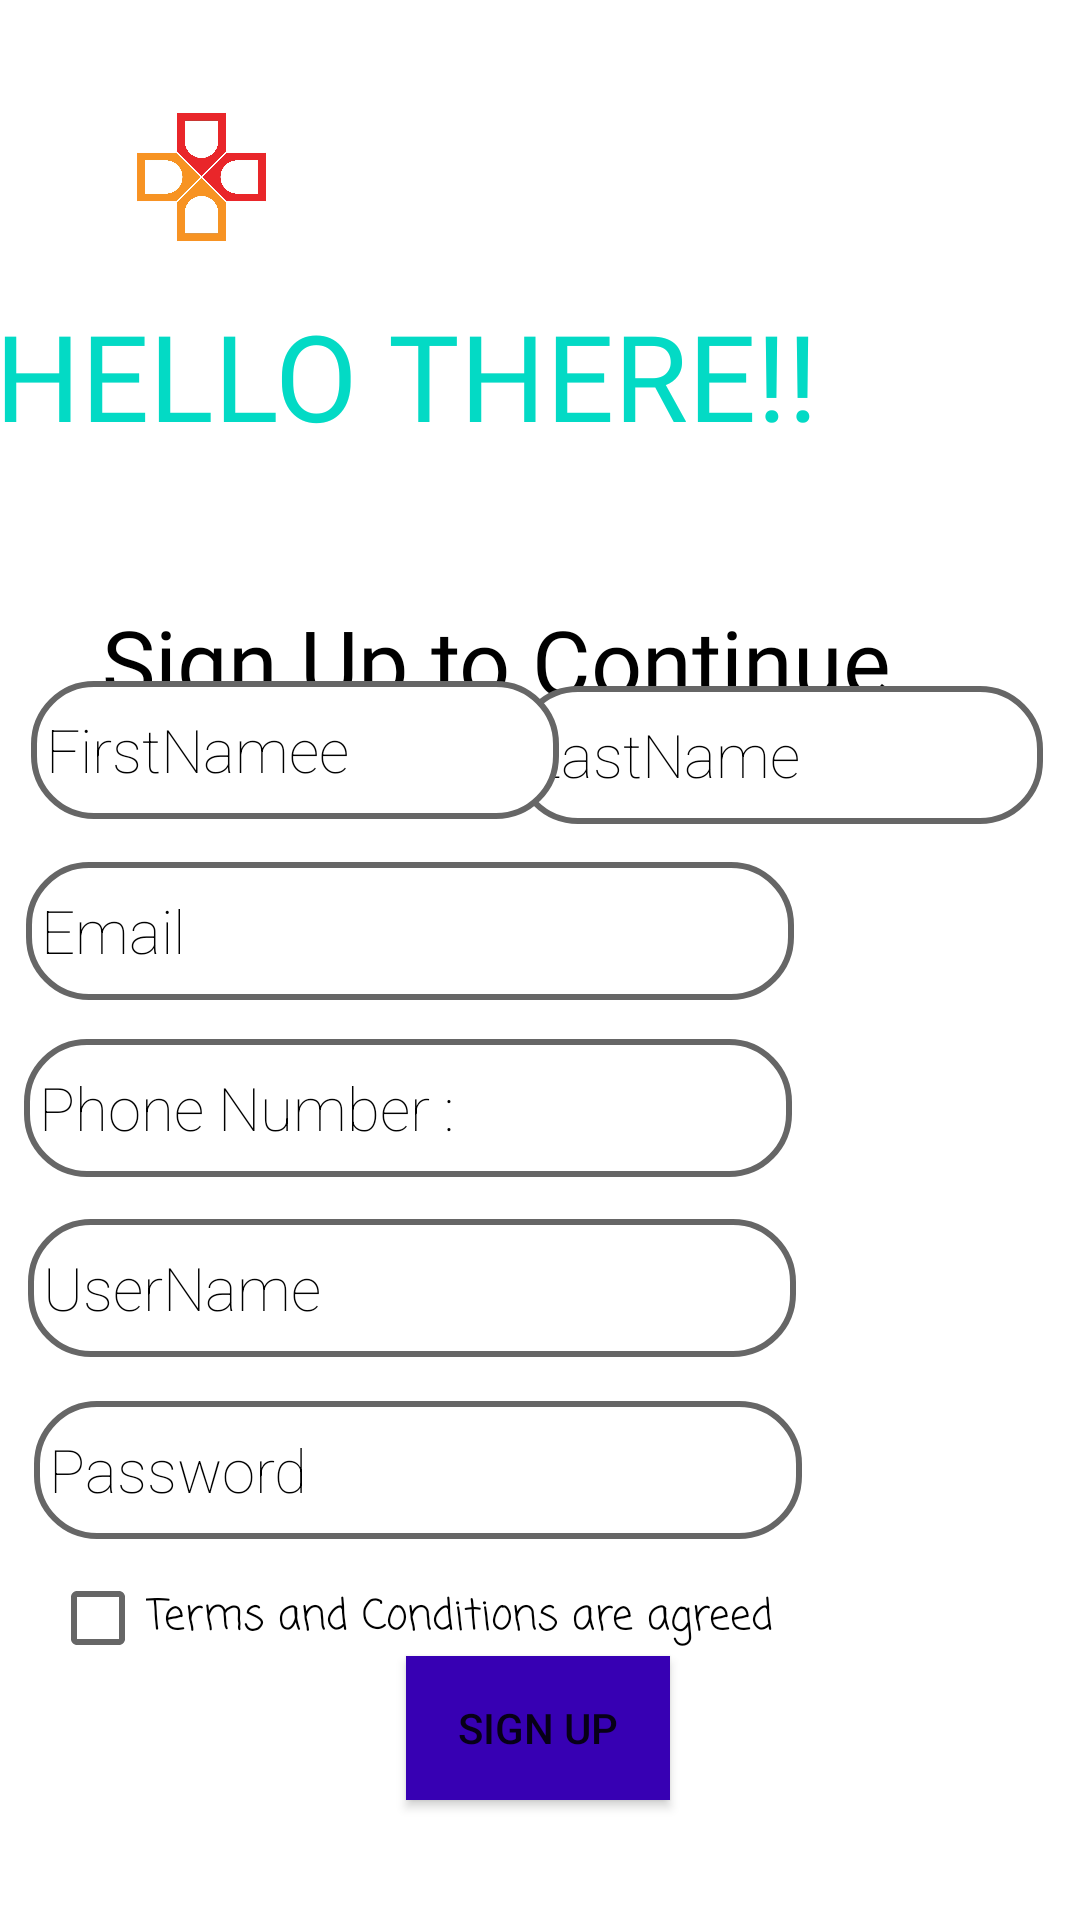

Icons on this 1080 × 1920 Android screen, each with the point to tap as (x,y):
hos: (201,177)
